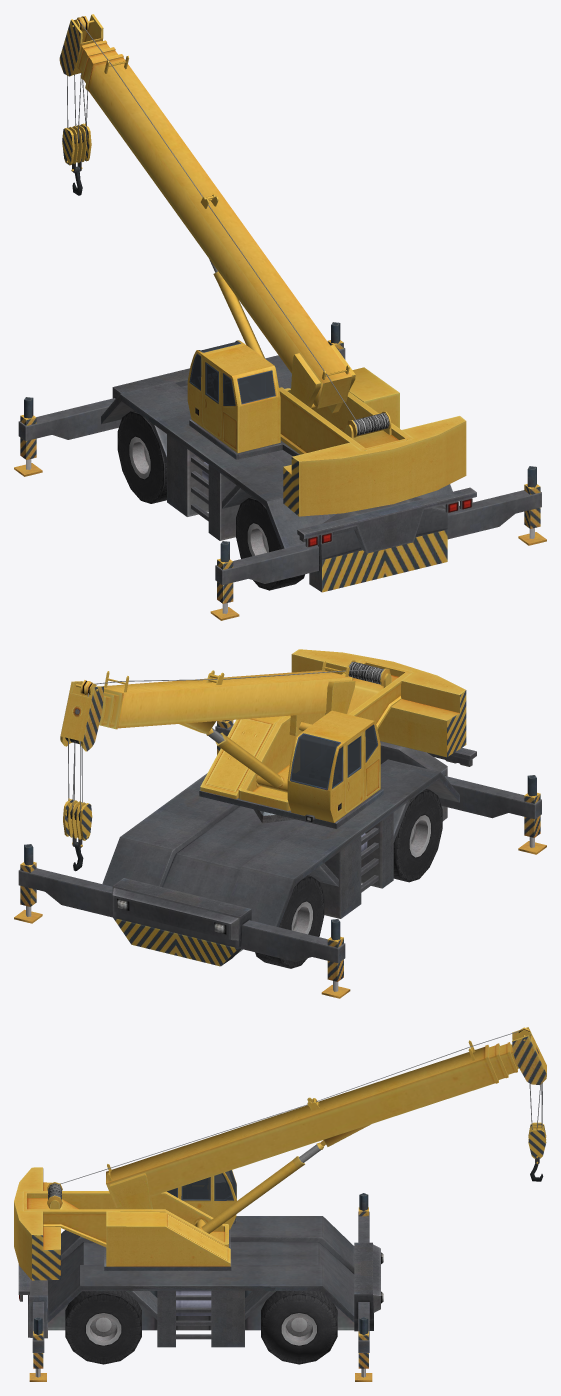
The model's file is Crane.glb.
3 renders of one model, top to bottom at view 1: azimuth 30°, elevation 25°; view 2: azimuth 150°, elevation 25°; view 3: azimuth 270°, elevation 25°, orthographic. The views are drawn at different scales.
Visible parts, largest first — view 1: Crane__LOD4; view 2: Crane__LOD4; view 3: Crane__LOD4.
Part boxes in pixels (left/top/right/bottom): Crane__LOD4: left=14, top=14, right=546, bottom=620; Crane__LOD4: left=14, top=649, right=546, bottom=998; Crane__LOD4: left=14, top=1027, right=546, bottom=1381.
Size of the model in its own units: 5.49 by 5.89 by 9.41.
2 materials, 2 textured.
